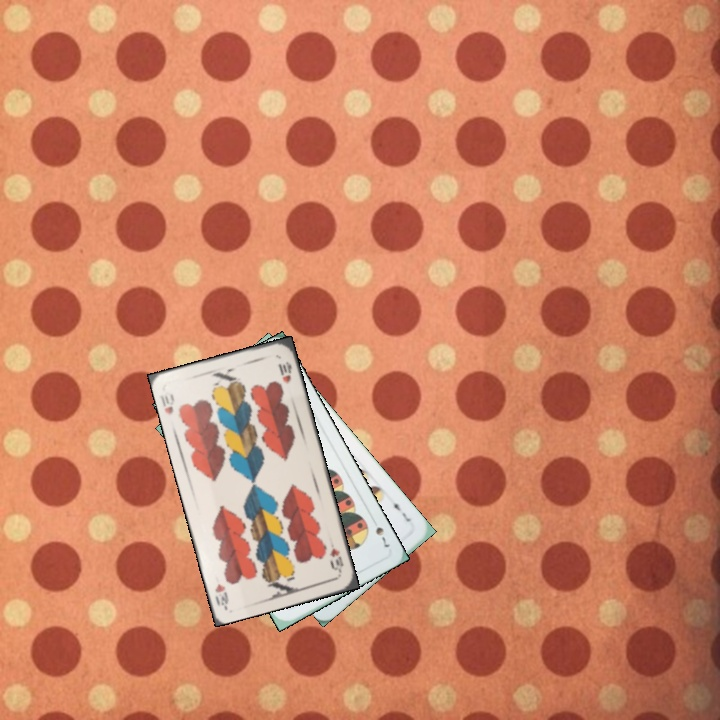E7: (388, 495, 413, 524)
H10: (325, 544, 346, 576), (157, 390, 177, 417)
S7: (371, 523, 393, 550)
